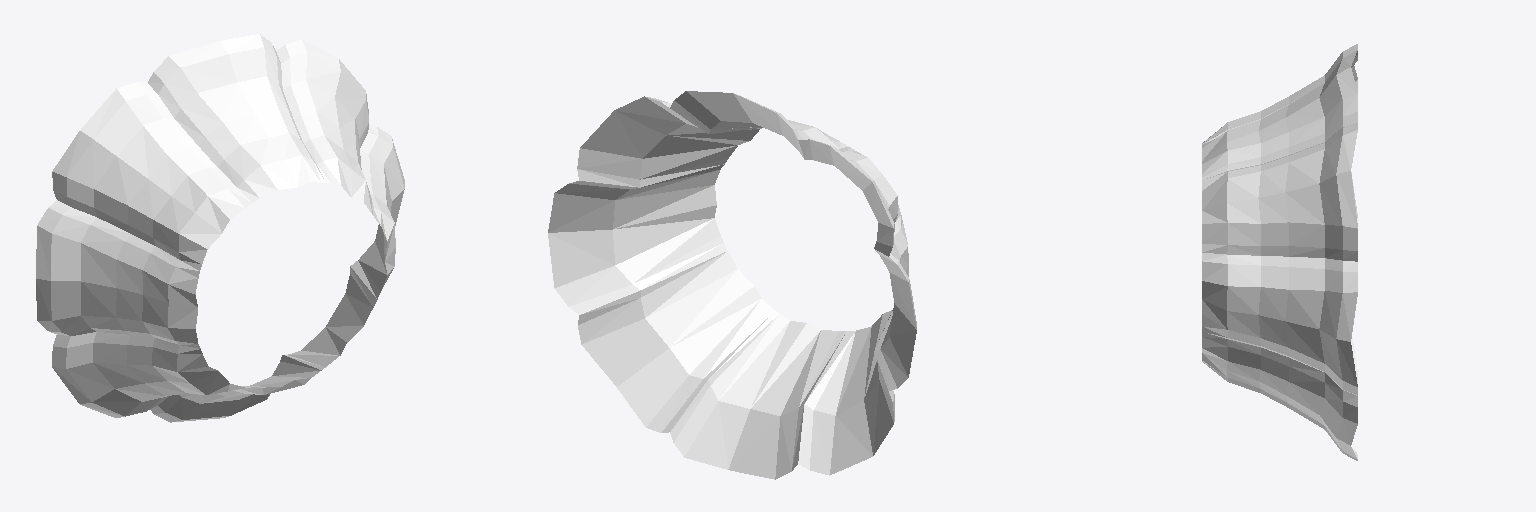
File: skirt.obj
The picture shows the model from 3 angles: view 1: azimuth 30°, elevation 25°; view 2: azimuth 150°, elevation 25°; view 3: azimuth 270°, elevation 25°; orthographic projection.
Parts seen in each view (by area): view 1: Circle; view 2: Circle; view 3: Circle.
Boxes of the visible parts, box(x1,y1,x2,y2) form: Circle: box(36, 34, 404, 422); Circle: box(548, 91, 916, 479); Circle: box(1202, 44, 1357, 460).
Bounding box in the file's own units: 0.3097 × 0.3033 × 0.1135.